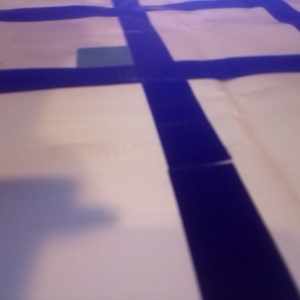bottom_left: (22, 89, 136, 153)
